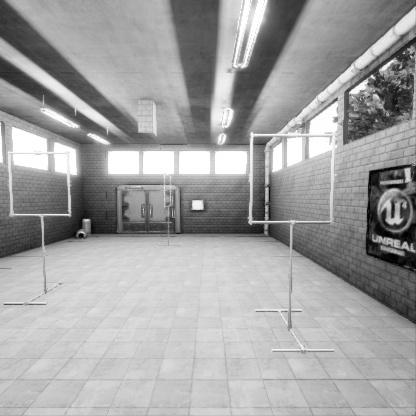gate: (252, 196, 345, 286), (15, 203, 79, 265), (164, 210, 170, 244)
